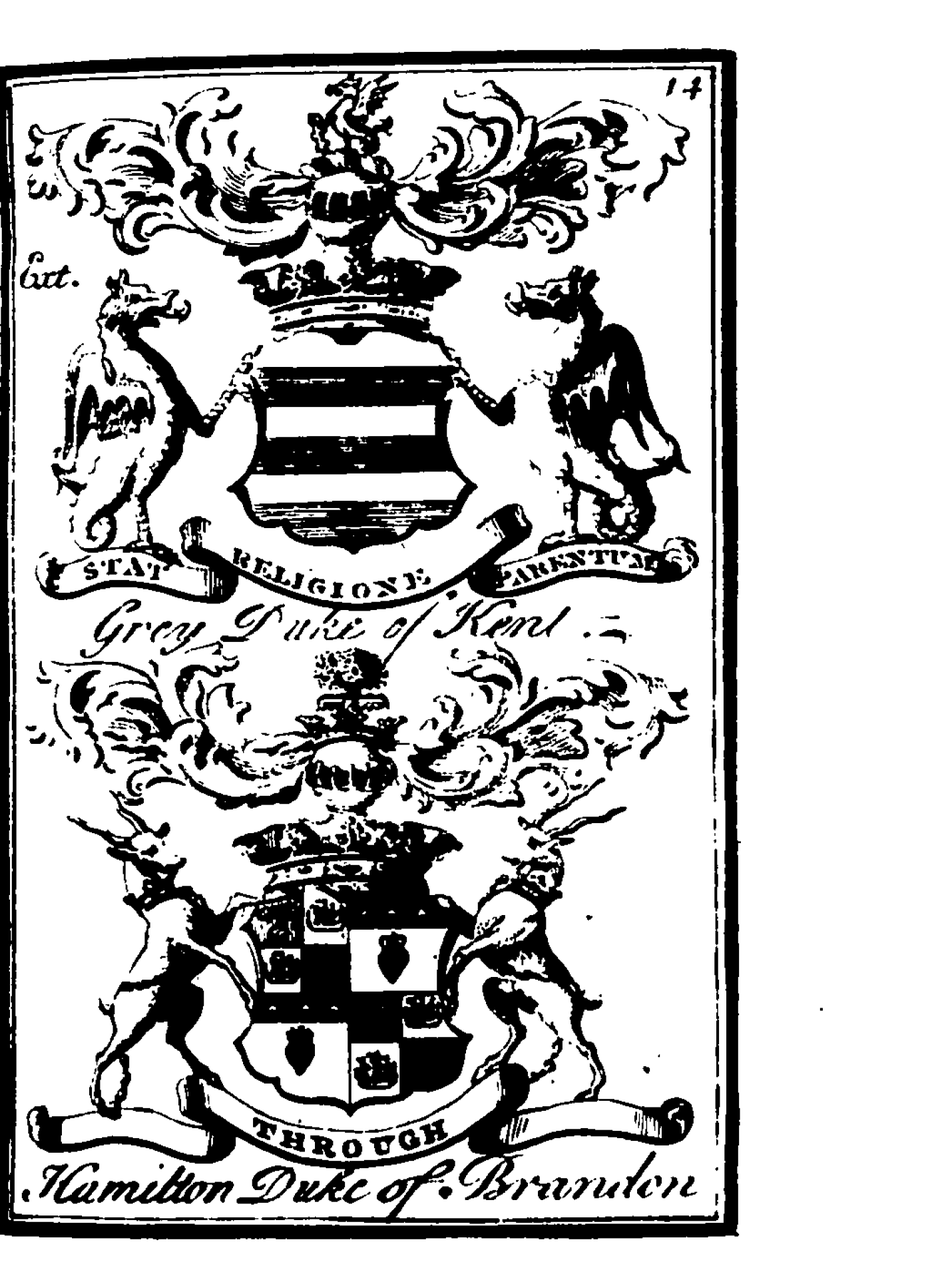coat_of_arms: (5, 82, 713, 644), (18, 645, 714, 1209)
